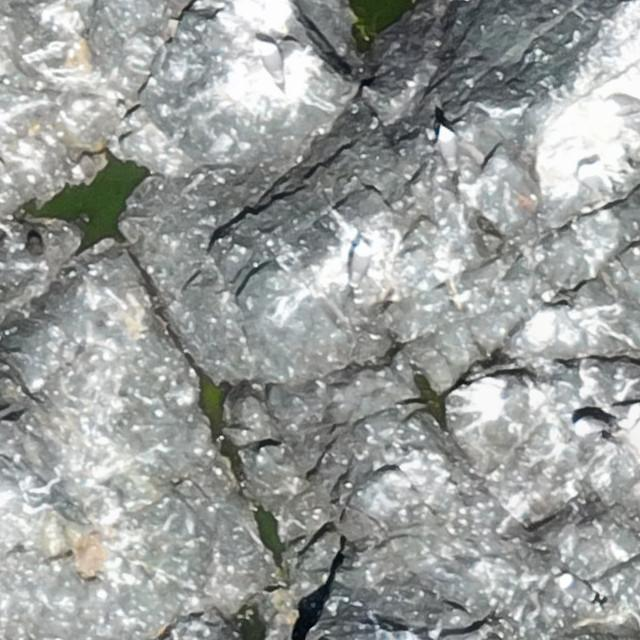umineko: (558, 573, 603, 602), (256, 42, 284, 86), (438, 124, 459, 175), (603, 90, 637, 112), (350, 244, 366, 282), (576, 420, 604, 436)
